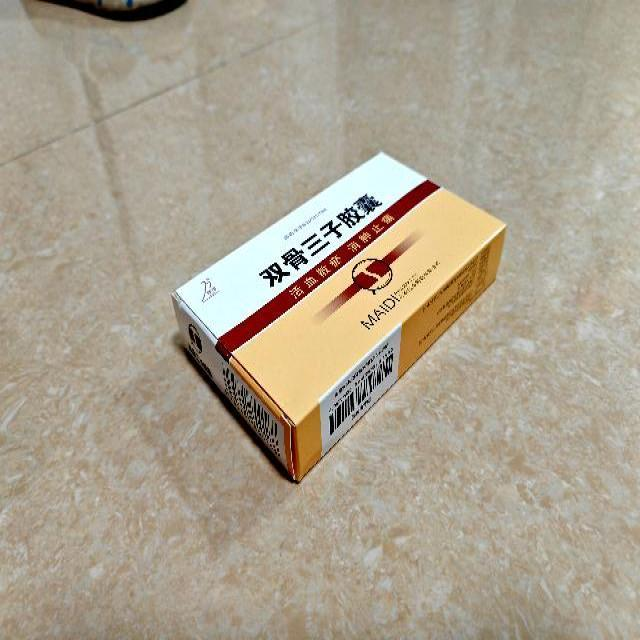box: (174, 152, 508, 484)
